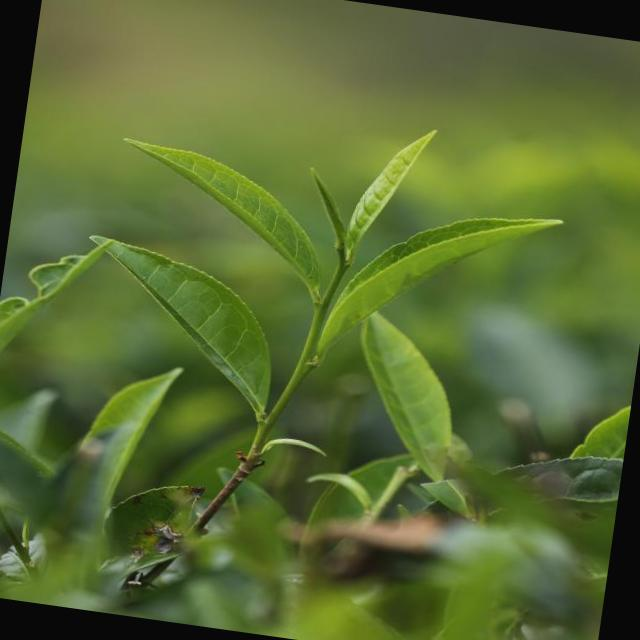Stem: (333, 264, 348, 279)
